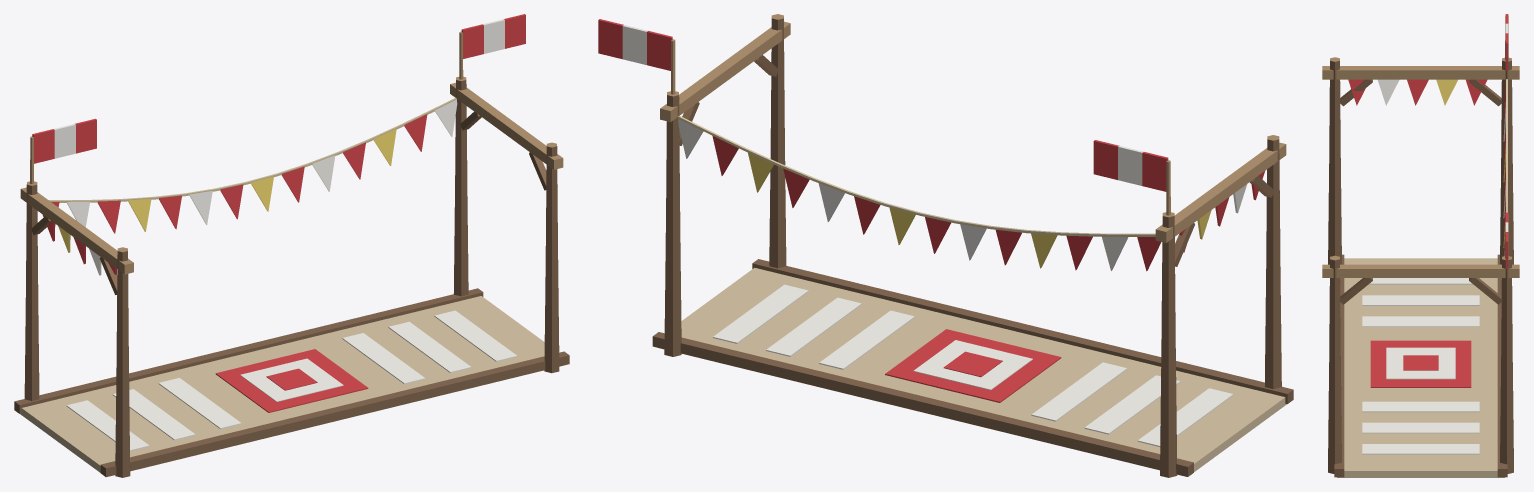
The model's file is ENV_N1_ArcoLlegada.fbx.
3 renders of one model, left to right at view 1: azimuth 30°, elevation 25°; view 2: azimuth 150°, elevation 25°; view 3: azimuth 270°, elevation 25°, orthographic. The views are drawn at different scales.
Parts seen in each view (by area): view 1: ENV_N1_ArcoLlegada; view 2: ENV_N1_ArcoLlegada; view 3: ENV_N1_ArcoLlegada.
Boxes of the visible parts, bbox=[...] form: ENV_N1_ArcoLlegada: bbox=[14, 14, 569, 477]; ENV_N1_ArcoLlegada: bbox=[598, 14, 1293, 477]; ENV_N1_ArcoLlegada: bbox=[1322, 14, 1519, 477].
Size of the model in its own units: 13.33 by 6.81 by 4.7.
